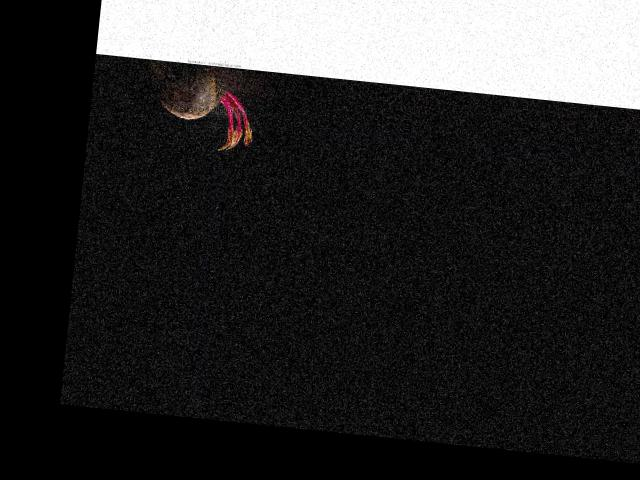beet: (138, 59, 258, 153)
